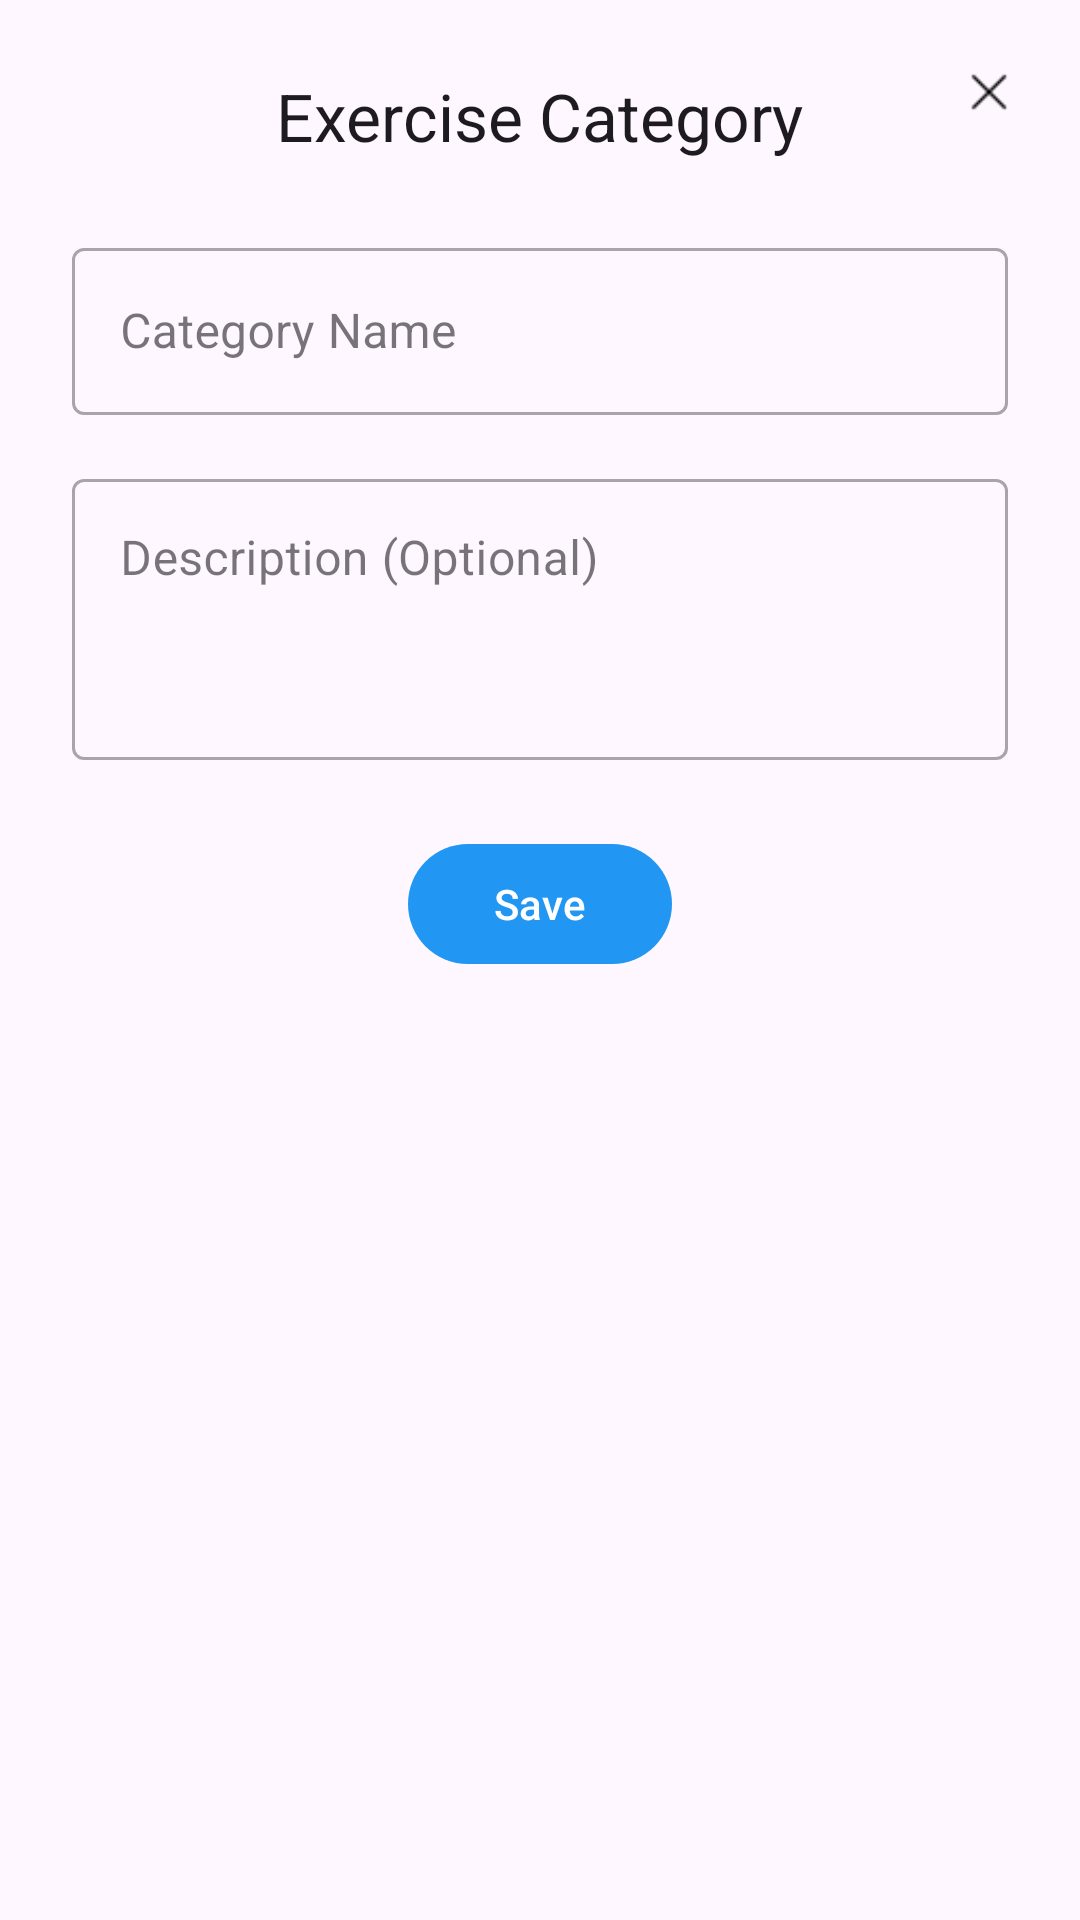

Icon click points for this 1080 x 1920 phone screenshot, format [x,y]:
Close dialog: [989,92]
